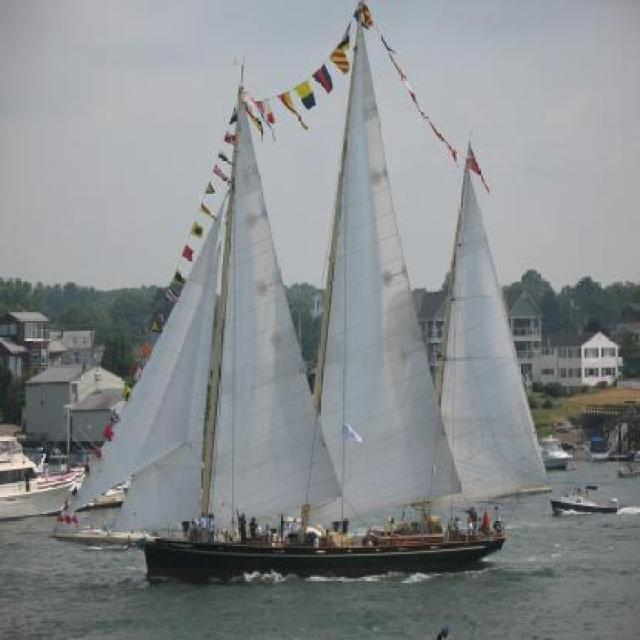ship: (49, 0, 551, 582), (2, 437, 84, 518), (550, 482, 618, 515), (538, 432, 572, 468), (582, 435, 608, 460)
